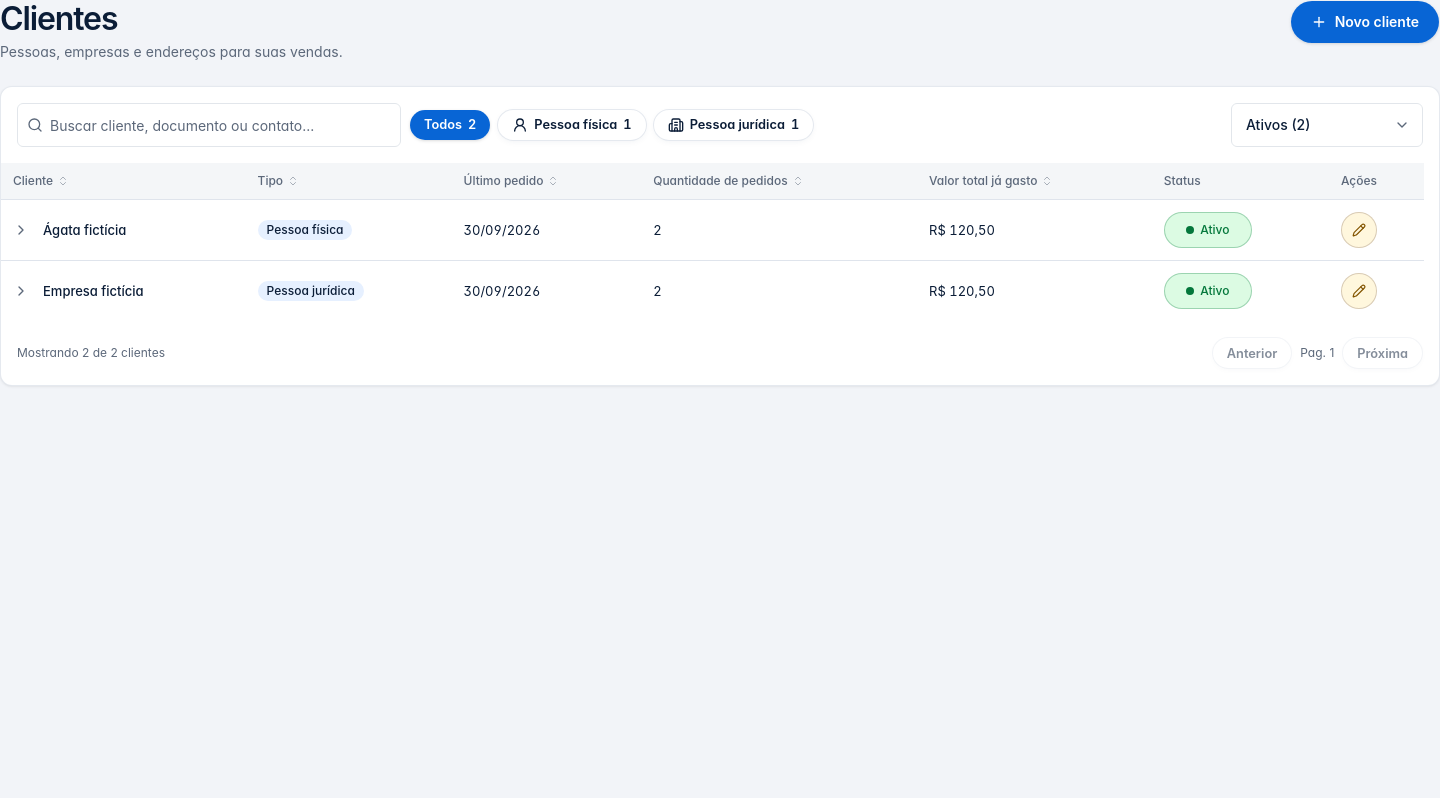
Test: clientes com padrões de Insumos › busca sem acentos e filtros imediatos fecham detalhes, sem botão de envio
Step 1. Click the button named "Abrir detalhes de Ágata fictícia" → (21,230), box [9,218,33,242]
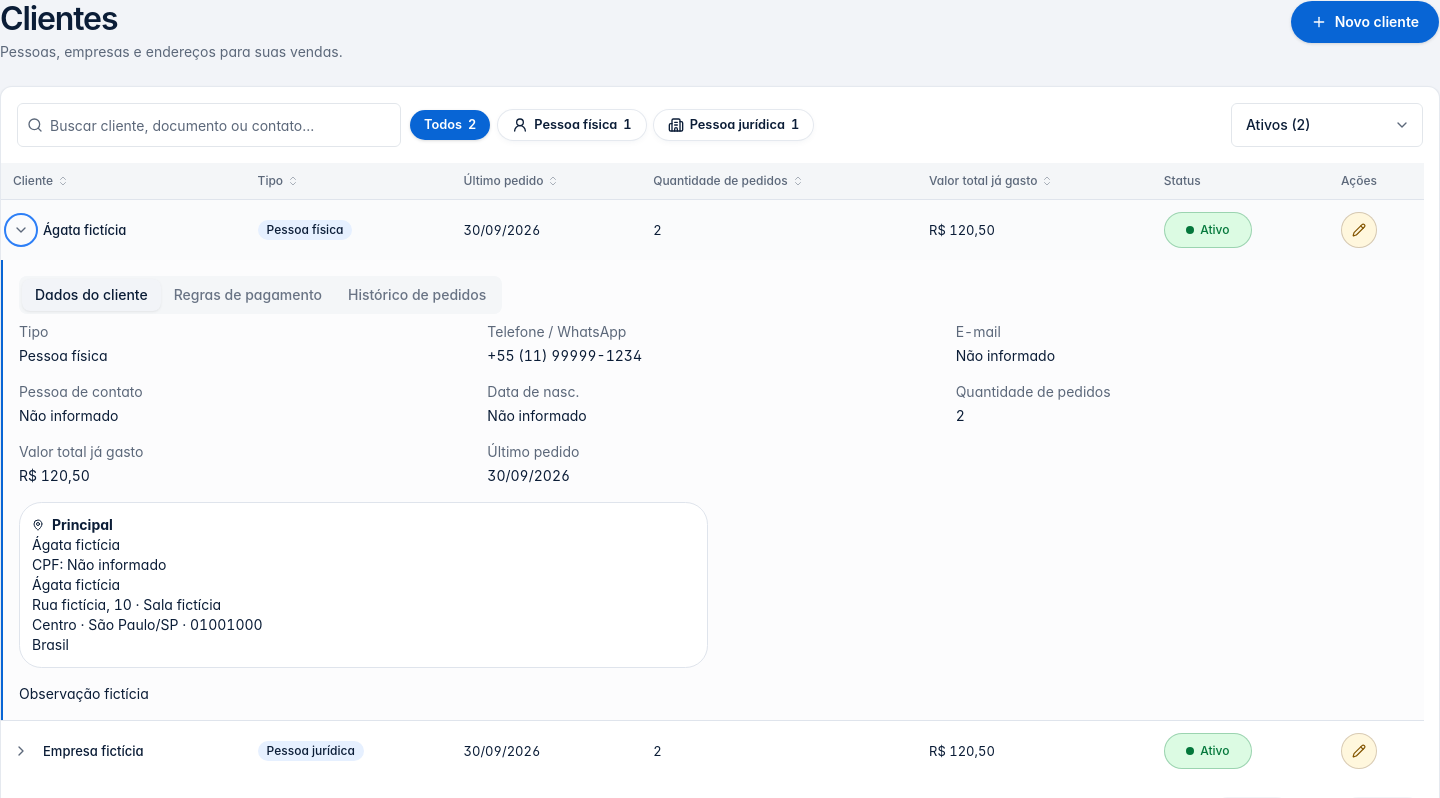
expect the element named "Detalhes de Ágata fictícia" is shown: met, box [1,260,1424,720]
Step 2. Type "agata" into the field named "Buscar clientes" → (209,125), box [17,103,401,147]
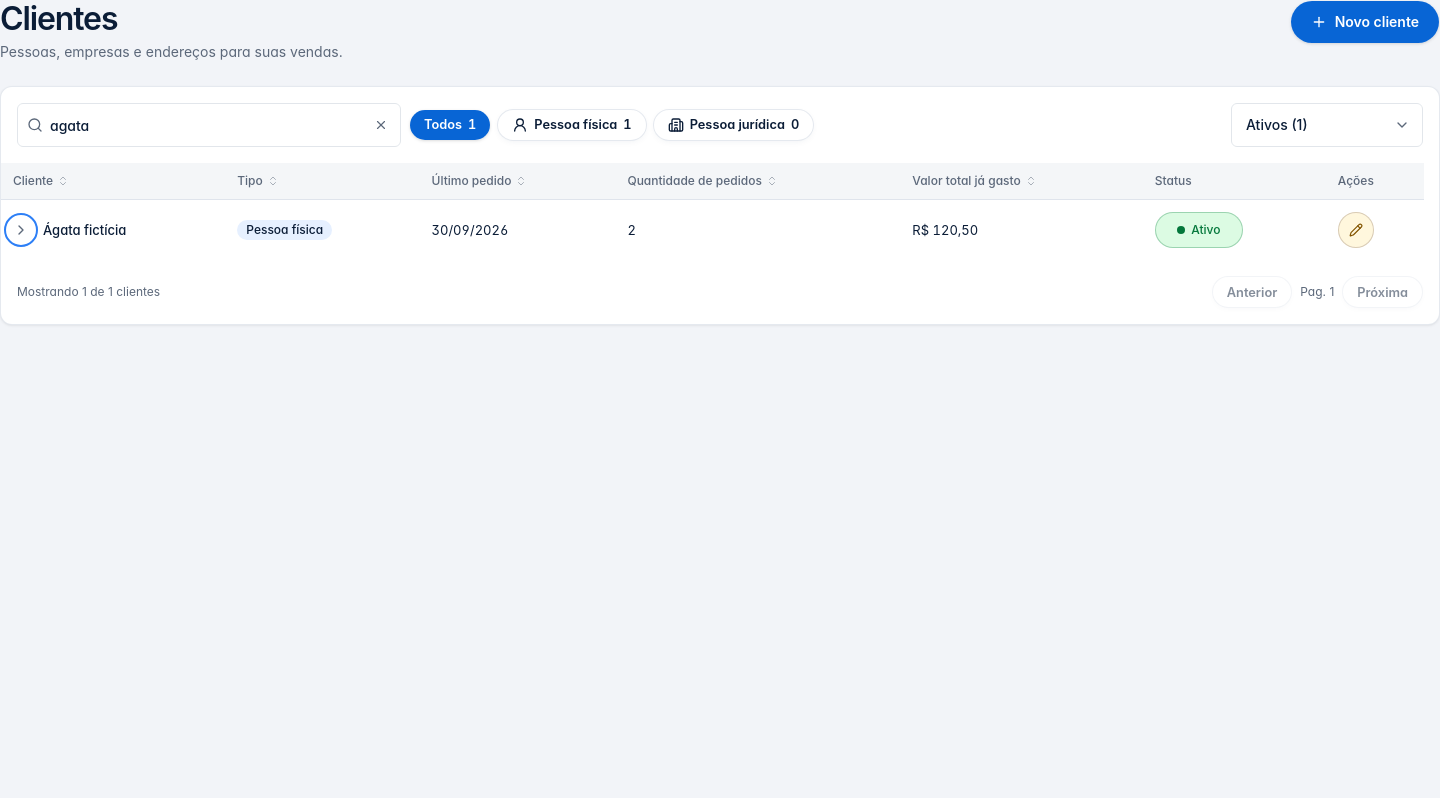
expect the button "Buscar" is not shown: met
expect the text "Empresa fictícia" is gone: met
Step 3. Click the button named "Limpar busca" → (381,125), box [369,113,393,137]
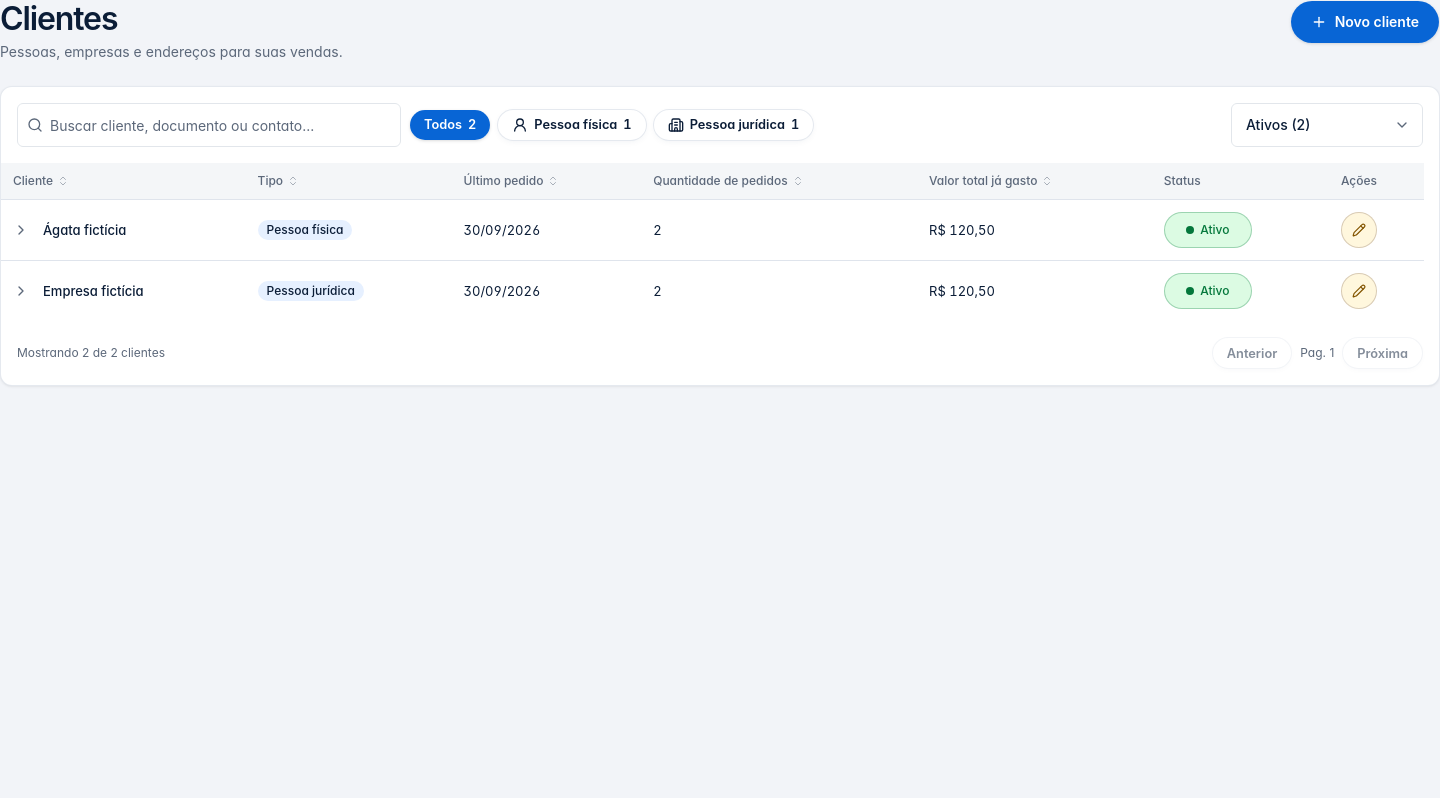
Step 4. Click the button with aria-label "Pessoa jurídica (1)" → (733,125), box [653,109,814,141]
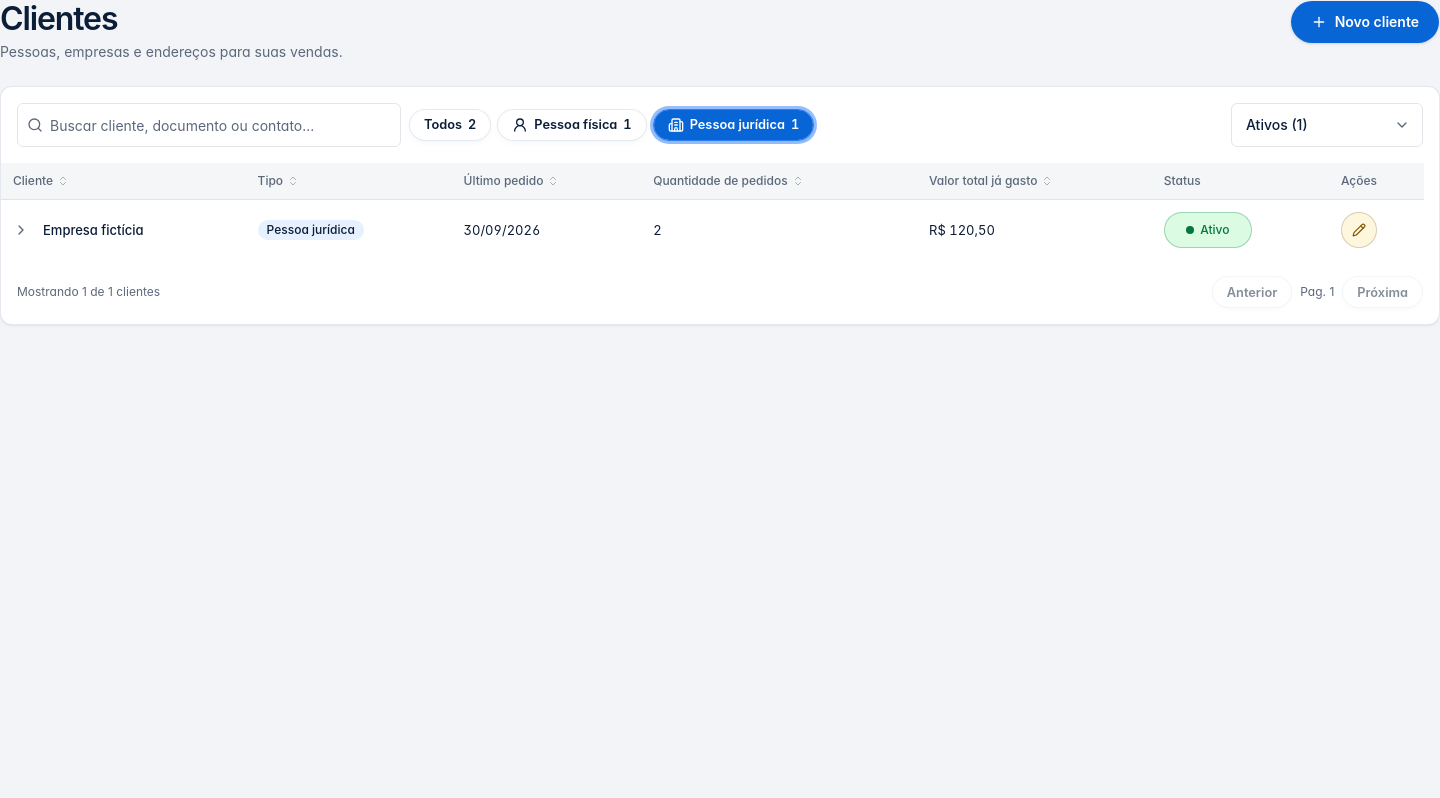
expect the text "Empresa fictícia" is shown: met, box [43,221,144,240]
expect the text "Ágata fictícia" is gone: met
